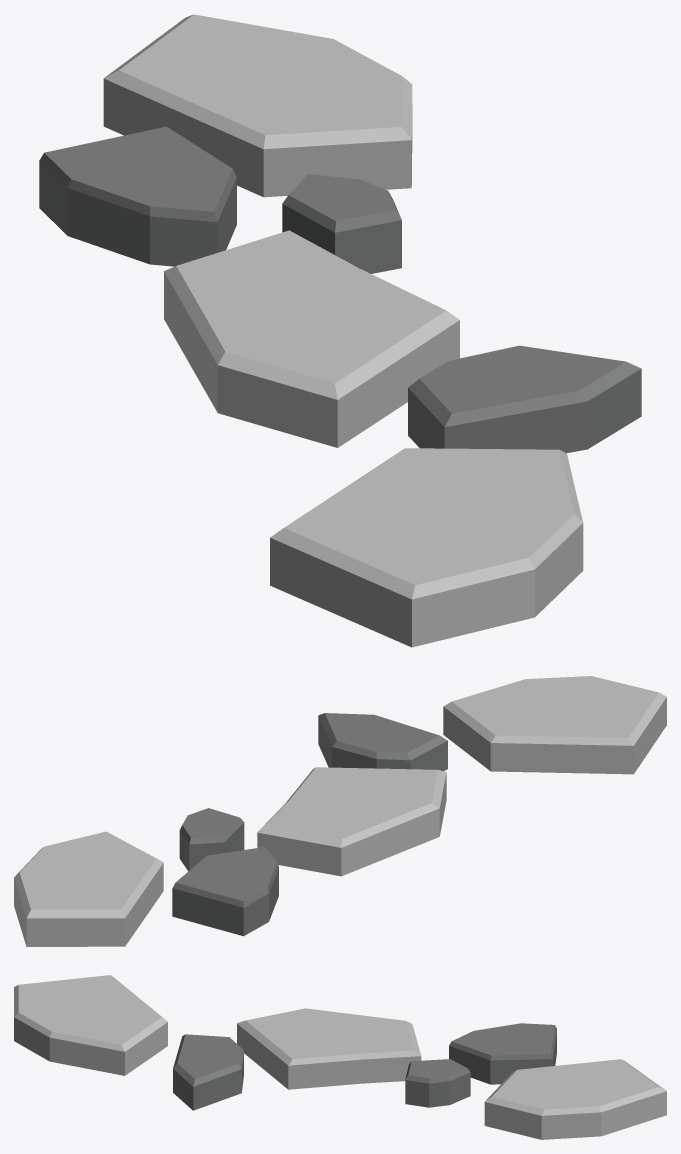
Rendered from ground_rock.fbx.
The picture shows the model from 3 angles, top to bottom: view 1: azimuth 30°, elevation 25°; view 2: azimuth 150°, elevation 25°; view 3: azimuth 270°, elevation 25°; orthographic projection. The views are drawn at different scales.
Parts seen in each view (by area): view 1: Plane; view 2: Plane; view 3: Plane.
Part boxes in pixels (x1=…): Plane: x1=39, y1=14, x2=641, y2=647; Plane: x1=14, y1=676, x2=666, y2=946; Plane: x1=14, y1=975, x2=666, y2=1139.
Size of the model in its own units: 5.84 by 0.5542 by 11.56.
